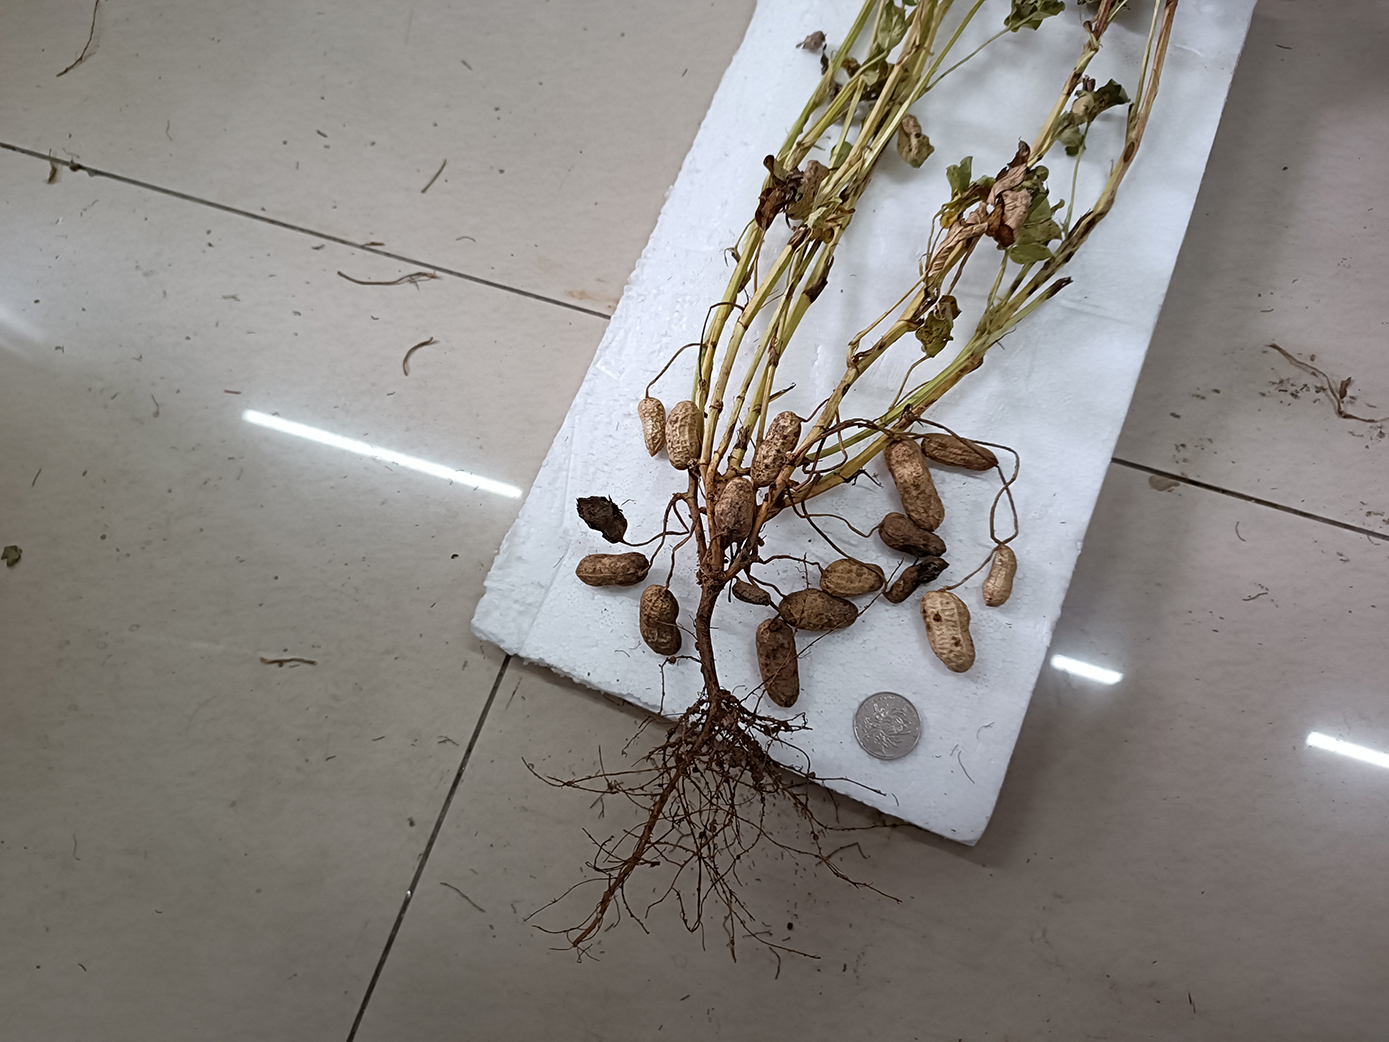h: (886, 437, 946, 532), (921, 589, 976, 673), (921, 435, 998, 471), (665, 400, 704, 471), (819, 558, 886, 598), (981, 544, 1017, 607), (638, 397, 665, 458)
l: (749, 412, 802, 488), (755, 618, 800, 708), (778, 589, 859, 630), (881, 557, 950, 604), (639, 584, 683, 657), (878, 512, 946, 556), (575, 494, 629, 544), (714, 476, 755, 539), (574, 551, 646, 586), (731, 580, 771, 606)
